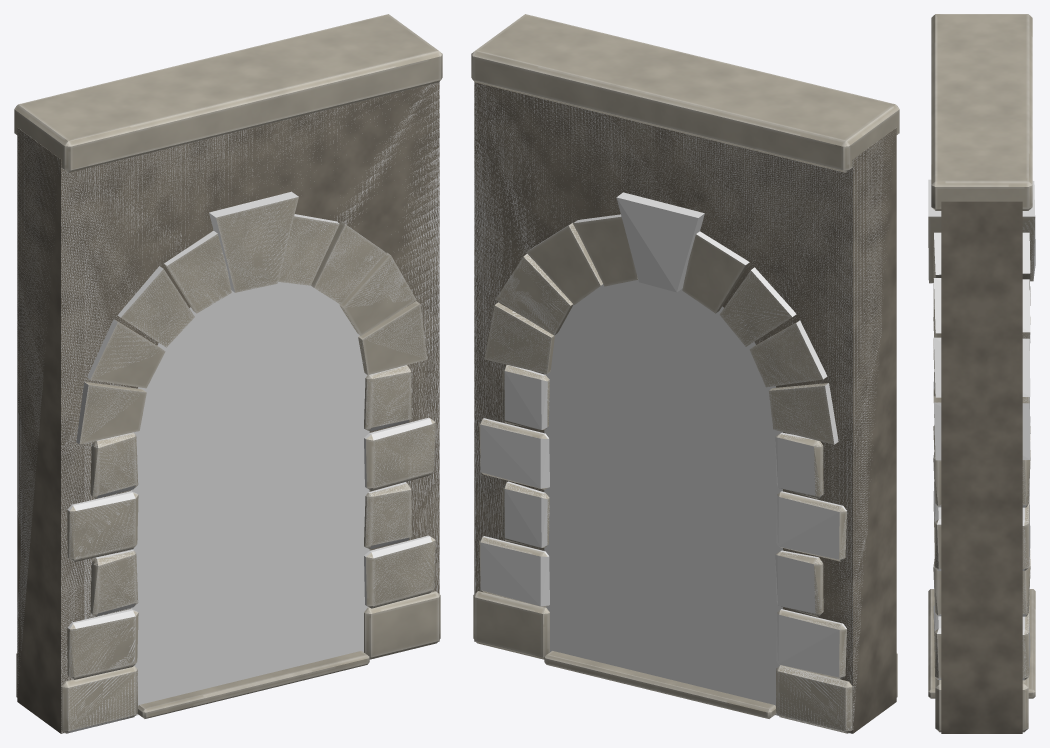
Rendered from stone_doorway.glb.
3 views of the same model, side by side, from view 1: azimuth 30°, elevation 25°; view 2: azimuth 150°, elevation 25°; view 3: azimuth 270°, elevation 25° (orthographic). The views are drawn at different scales.
Parts seen in each view (by area): view 1: COL_stone_doorway_00, wall, coping, keystone, plinth_left, plinth_right, threshold, jamb_long_1_left, jamb_long_0_left, jamb_long_1_right, jamb_long_0_right, voussoir_0_right (+28 smaller); view 2: COL_stone_doorway_00, wall, coping, COL_stone_doorway_17, plinth_left, plinth_right, threshold, COL_stone_doorway_03, COL_stone_doorway_01, COL_stone_doorway_02, COL_stone_doorway_04, voussoir_0_right (+21 smaller); view 3: wall, coping, threshold, keystone, COL_stone_doorway_11, COL_stone_doorway_09, COL_stone_doorway_13, jamb_long_1_right, jamb_long_0_right, jamb_short_1_right, jamb_short_0_right, plinth_right (+4 smaller).
Part boxes in pixels (<box>): COL_stone_doorway_00: <box>17,83,439,733</box>; wall: <box>17,82,439,733</box>; coping: <box>14,14,442,172</box>; keystone: <box>216,197,298,292</box>; plinth_left: <box>16,653,137,733</box>; plinth_right: <box>364,591,440,659</box>; threshold: <box>137,651,369,718</box>; jamb_long_1_left: <box>67,492,138,561</box>; jamb_long_0_left: <box>67,610,138,679</box>; jamb_long_1_right: <box>366,419,435,490</box>; jamb_long_0_right: <box>366,537,435,608</box>; voussoir_0_right: <box>358,301,427,375</box>; COL_stone_doorway_00: <box>474,82,895,733</box>; wall: <box>474,82,896,733</box>; coping: <box>471,14,899,172</box>; COL_stone_doorway_17: <box>616,192,704,292</box>; plinth_left: <box>776,653,897,733</box>; plinth_right: <box>473,591,549,659</box>; threshold: <box>544,651,776,718</box>; COL_stone_doorway_03: <box>479,418,549,488</box>; COL_stone_doorway_01: <box>480,536,549,606</box>; COL_stone_doorway_02: <box>776,609,846,678</box>; COL_stone_doorway_04: <box>776,491,846,560</box>; voussoir_0_right: <box>484,302,554,373</box>; wall: <box>941,201,1022,733</box>; coping: <box>931,14,1032,210</box>; threshold: <box>928,589,1035,698</box>; keystone: <box>928,216,1035,283</box>; COL_stone_doorway_11: <box>933,337,1030,397</box>; COL_stone_doorway_09: <box>934,397,1030,460</box>; COL_stone_doorway_13: <box>933,278,1030,338</box>; jamb_long_1_right: <box>933,496,1029,570</box>; jamb_long_0_right: <box>933,606,1029,679</box>; jamb_short_1_right: <box>933,441,1030,506</box>; jamb_short_0_right: <box>933,550,1030,616</box>; plinth_right: <box>935,677,1028,732</box>.
Bounding box in the file's own units: 2 × 3 × 0.5315.
2 materials, 2 textured.
